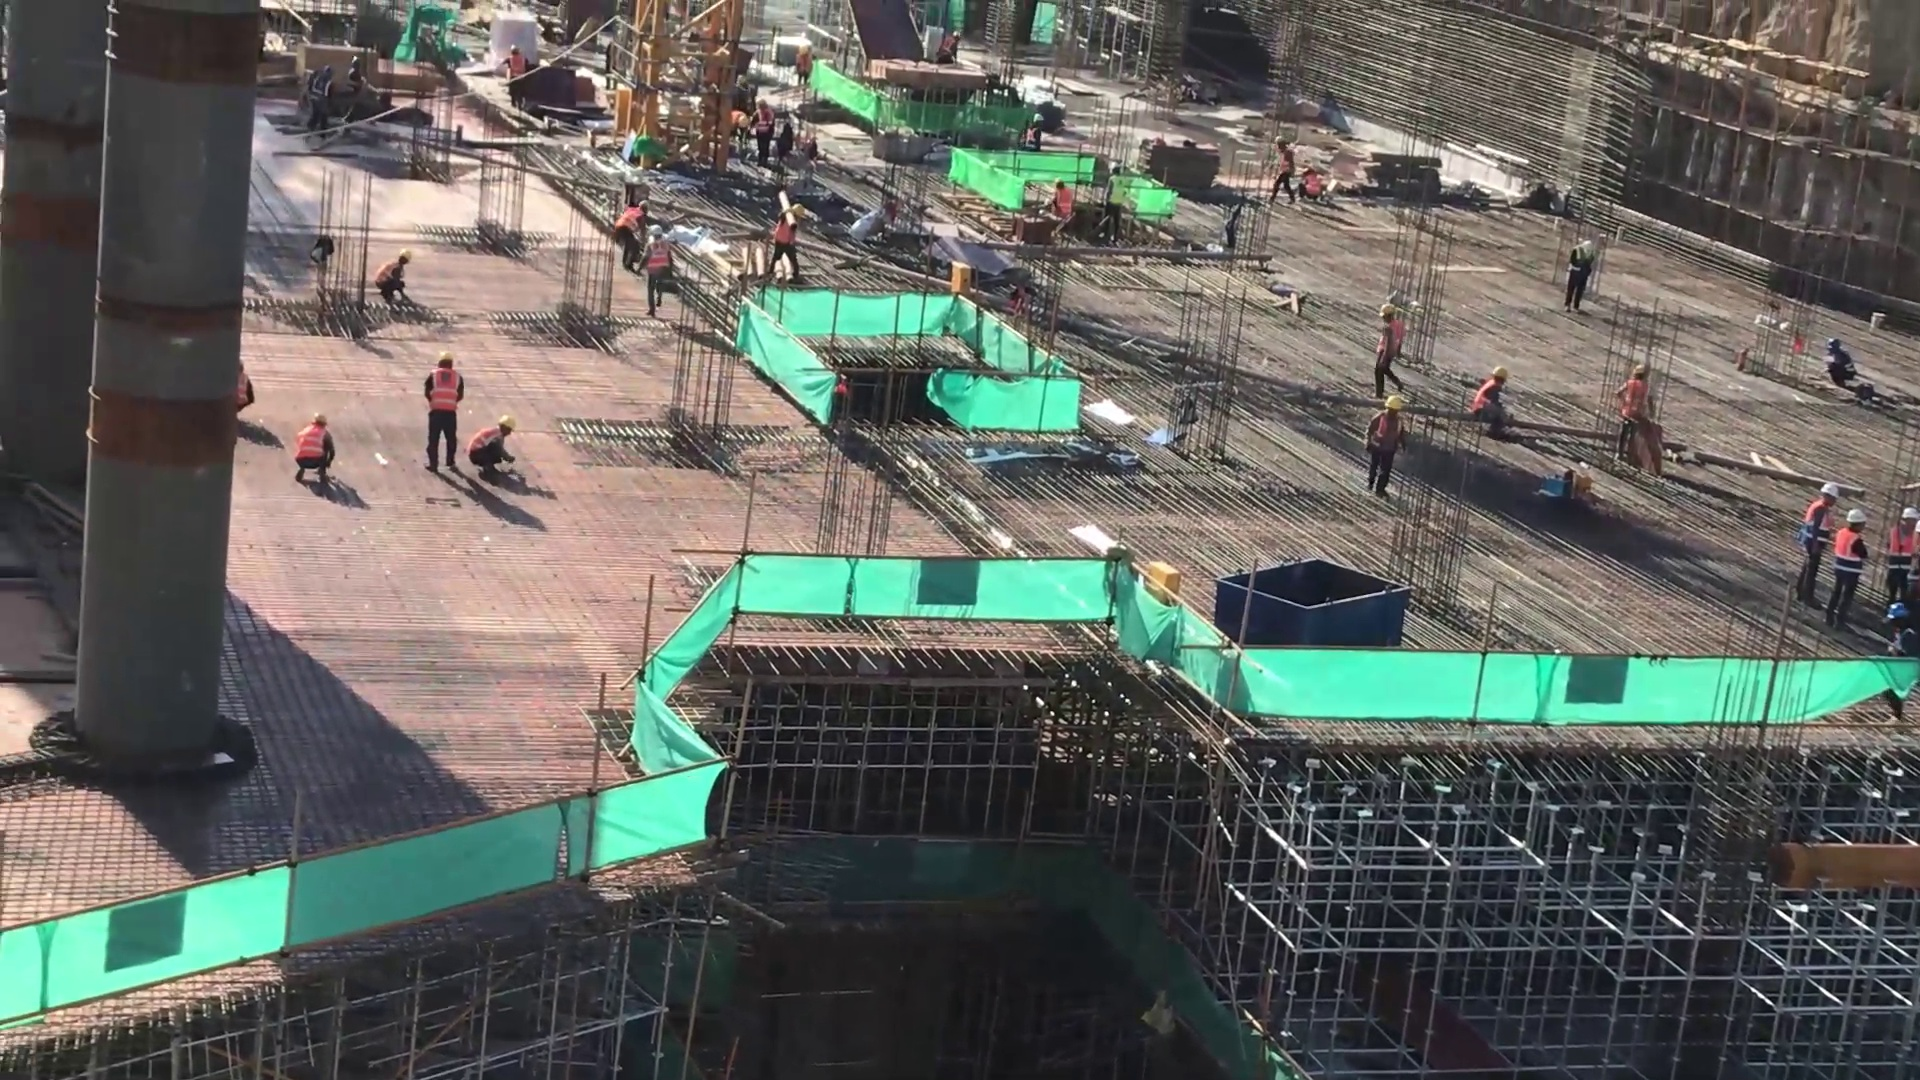helmet: (1380, 396, 1405, 412), (496, 413, 515, 432), (1845, 508, 1866, 526), (1490, 367, 1510, 383), (436, 353, 455, 369), (311, 413, 329, 429), (1821, 485, 1840, 499), (792, 202, 806, 218), (1380, 305, 1397, 316), (754, 98, 771, 108), (651, 225, 664, 237), (1899, 507, 1911, 519), (399, 248, 412, 260), (639, 198, 649, 211), (1033, 114, 1044, 122), (1110, 162, 1122, 170), (1056, 176, 1065, 184), (510, 43, 521, 52), (1275, 137, 1285, 142)
person: (420, 350, 464, 473), (1824, 508, 1869, 630), (1797, 482, 1838, 606), (1361, 391, 1404, 507), (285, 411, 339, 490), (1881, 607, 1916, 723), (1469, 359, 1516, 444), (1370, 294, 1409, 398), (1616, 360, 1650, 469), (1885, 504, 1920, 603), (470, 405, 517, 479), (300, 60, 337, 150), (770, 200, 808, 286), (608, 193, 648, 271), (641, 225, 673, 321), (1563, 241, 1602, 316), (374, 245, 420, 310), (1819, 333, 1858, 395), (1097, 160, 1123, 248), (1265, 131, 1295, 206), (744, 98, 776, 168), (500, 44, 526, 113), (234, 359, 258, 424), (792, 47, 817, 111), (1023, 103, 1046, 167), (345, 57, 365, 119), (935, 28, 963, 71), (1050, 180, 1076, 222), (1298, 161, 1320, 204)
vest: (1374, 412, 1404, 457), (429, 371, 458, 412), (296, 426, 324, 460), (377, 260, 405, 294), (474, 423, 502, 455), (775, 211, 799, 246), (1381, 323, 1402, 358), (648, 244, 671, 273), (619, 204, 641, 234), (1477, 381, 1495, 413), (756, 110, 775, 134), (1106, 179, 1125, 206), (1056, 192, 1075, 215), (507, 55, 524, 79), (1305, 172, 1320, 196), (1279, 152, 1291, 175), (1026, 130, 1037, 146)
